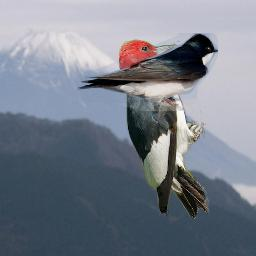Swallow: (77, 33, 218, 111)
Woodpecker: (119, 38, 211, 219)
